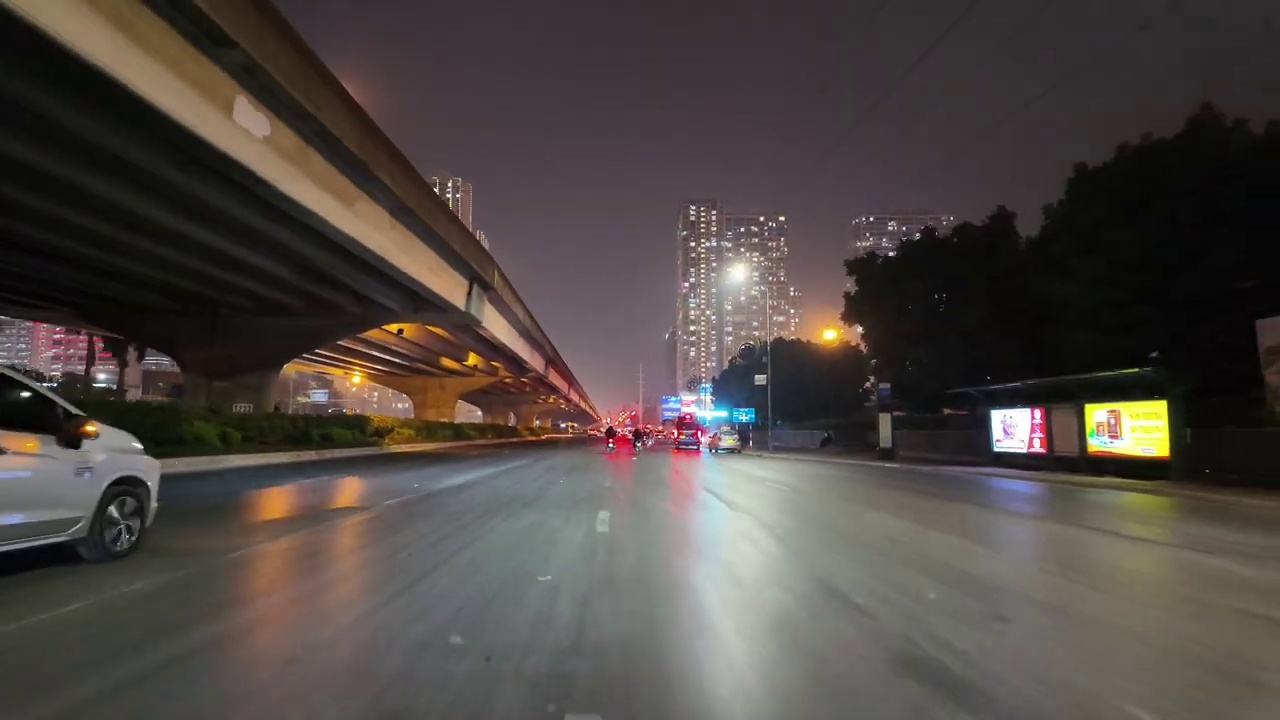acesa: (722, 261, 750, 286)
